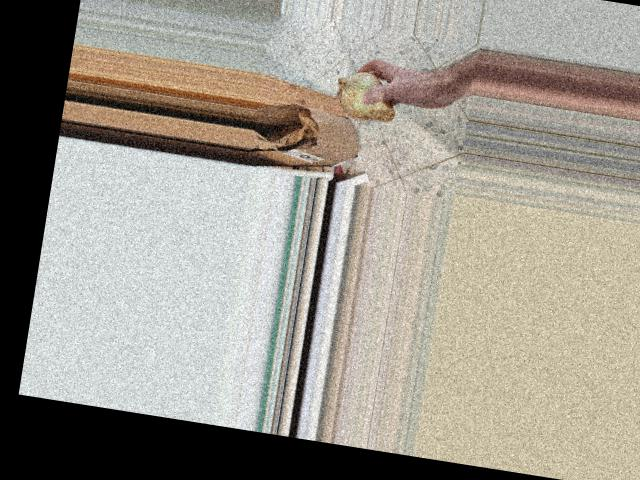onion: (330, 60, 405, 128)
